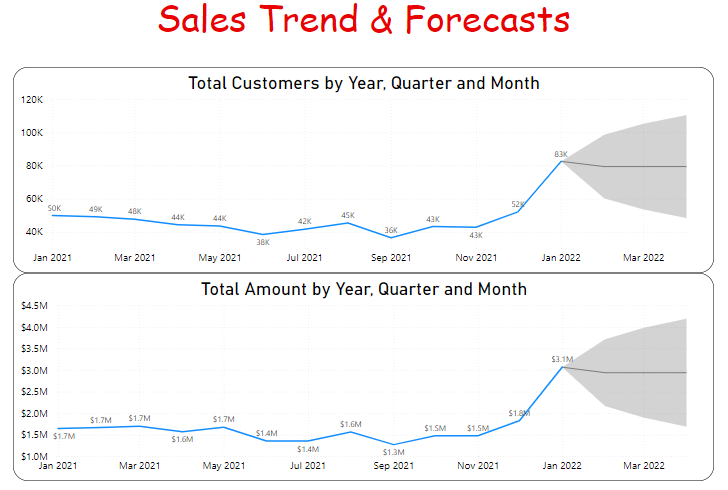

This screenshot's page, from the dashboard's own definition file:
{"tool":"powerbi","page":{"name":"Sales Trend & Forecasts","canvas":[1500,1000],"ordinal":1},"visuals":[{"type":"lineChart","fields":{"Category":["sales.Date.Variation.Date Hierarchy.Year","sales.Date.Variation.Date Hierarchy.Quarter","sales.Date.Variation.Date Hierarchy.Month","sales.Date.Variation.Date Hierarchy.Day"],"Y":["sales.Total Customers"]},"box":[46,154,1402,412],"z":0},{"type":"lineChart","fields":{"Category":["sales.Date.Variation.Date Hierarchy.Year","sales.Date.Variation.Date Hierarchy.Quarter","sales.Date.Variation.Date Hierarchy.Month","sales.Date.Variation.Date Hierarchy.Day"],"Y":["sales.Total Amount"]},"box":[46,566,1402,416],"z":1000},{"type":"textbox","box":[46,0,1402,128],"z":2000}]}

Visuals, with their boxes in screenshot pixels (x1, y1, x2, y2), scaled from the page's 1500x1000 canvas onto the 728x490 screenshot:
lineChart - sales.Date.Variation.Date Hierarchy.Year x sales.Date.Variation.Date Hierarchy.Quarter: bbox=[22, 75, 703, 277]
lineChart - sales.Date.Variation.Date Hierarchy.Year x sales.Date.Variation.Date Hierarchy.Quarter: bbox=[22, 277, 703, 481]
textbox: bbox=[22, 0, 703, 63]
